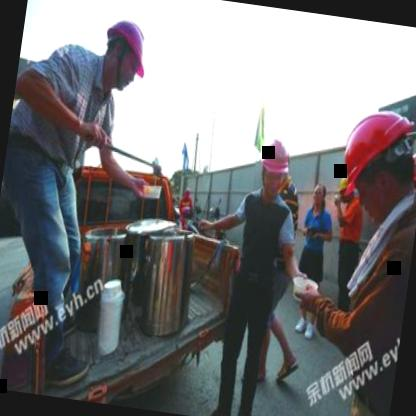helmet: (332, 108, 416, 222), (96, 11, 153, 102), (253, 140, 293, 202), (332, 174, 355, 207), (406, 144, 416, 195)
